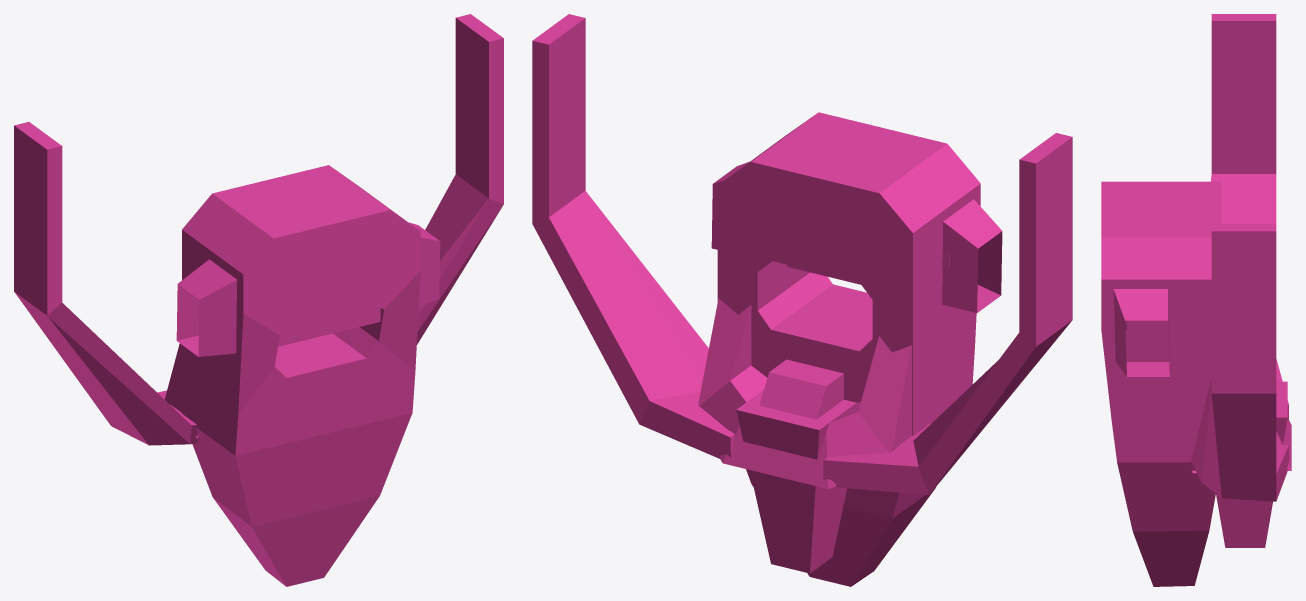
Rendered from Beards.fbx.
The picture shows the model from 3 angles, left to right: view 1: azimuth 30°, elevation 25°; view 2: azimuth 150°, elevation 25°; view 3: azimuth 270°, elevation 25°; orthographic projection. The views are drawn at different scales.
Parts seen in each view (by area): view 1: Beard_GoateeLong, Beard_ChopBig, Beard_ChopSmall, Beard_MoustacheBig, Beard_Circled; view 2: Beard_GoateeLong, Beard_ChopBig, Beard_Circled, Beard_GoateeM edium, Beard_MoustacheBig, Beard_ChopSmall, Beard_SemiCircled, Beard_GoateeShort; view 3: Beard_GoateeLong, Beard_ChopBig, Beard_ChopSmall, Beard_MoustacheBig, Beard_GoateeM edium, Beard_MoustacheSmall, Beard_GoateeShort, Beard_Circled.
Boxes of the visible parts, bbox=[...] form: Beard_GoateeLong: bbox=[182, 165, 420, 586]; Beard_ChopBig: bbox=[14, 14, 503, 445]; Beard_ChopSmall: bbox=[14, 22, 503, 309]; Beard_MoustacheBig: bbox=[176, 222, 440, 356]; Beard_Circled: bbox=[164, 343, 181, 412]; Beard_GoateeLong: bbox=[717, 112, 980, 586]; Beard_ChopBig: bbox=[532, 14, 1072, 495]; Beard_Circled: bbox=[698, 298, 911, 488]; Beard_GoateeM edium: bbox=[736, 403, 855, 573]; Beard_MoustacheBig: bbox=[711, 161, 1002, 312]; Beard_ChopSmall: bbox=[532, 19, 1072, 339]; Beard_SemiCircled: bbox=[720, 359, 843, 488]; Beard_GoateeShort: bbox=[736, 390, 856, 429]; Beard_GoateeLong: bbox=[1101, 181, 1221, 586]; Beard_ChopBig: bbox=[1191, 14, 1288, 501]; Beard_ChopSmall: bbox=[1211, 21, 1276, 387]; Beard_MoustacheBig: bbox=[1113, 289, 1169, 376]; Beard_GoateeM edium: bbox=[1216, 417, 1287, 547]; Beard_MoustacheSmall: bbox=[1125, 315, 1169, 330]; Beard_GoateeShort: bbox=[1276, 381, 1287, 417]; Beard_Circled: bbox=[1276, 419, 1291, 470].
Size of the model in its own units: 90 by 87.87 by 33.28.
